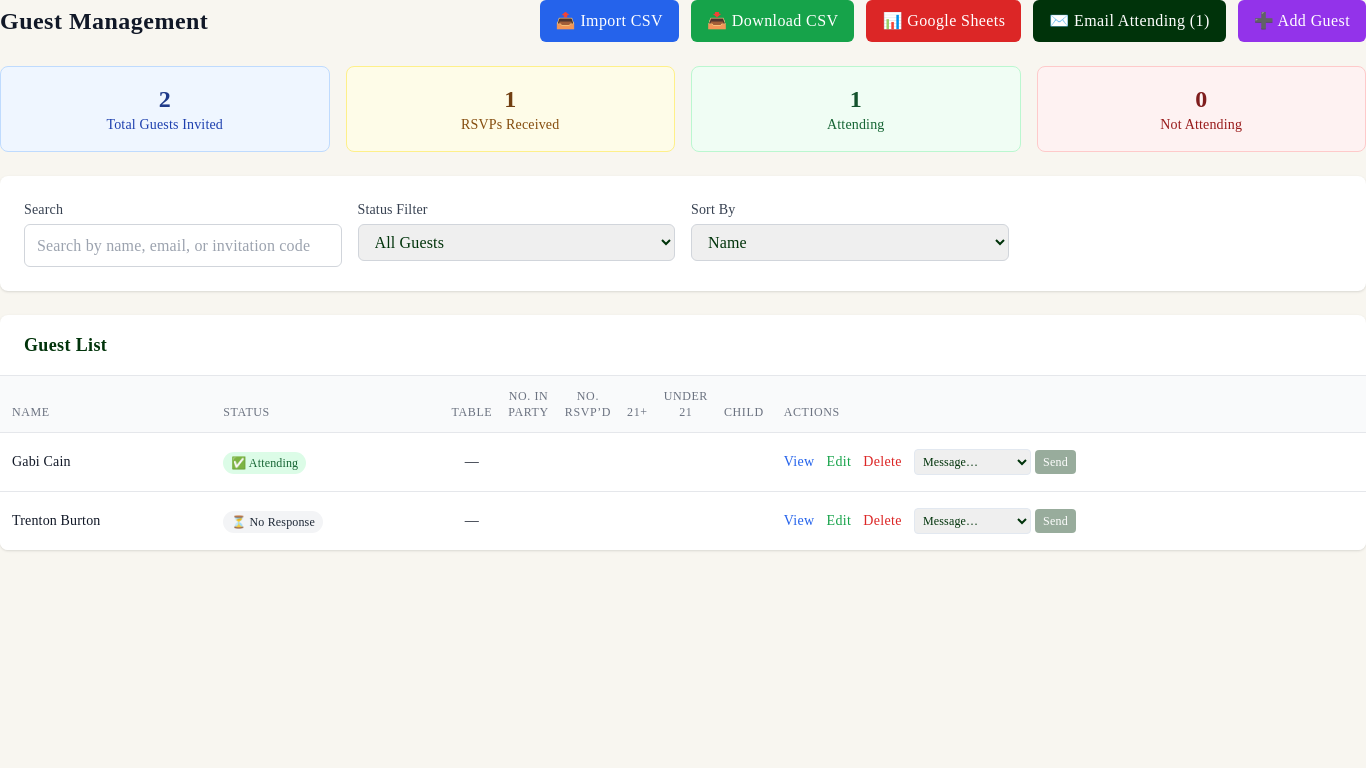
Scenario: the popup › downloads nothing when she cancels
Expected: the text "Gabi Cain" is shown, [12,454,71,469]
Click the button "📥 Download CSV" at (773, 21), box [691,0,854,42]
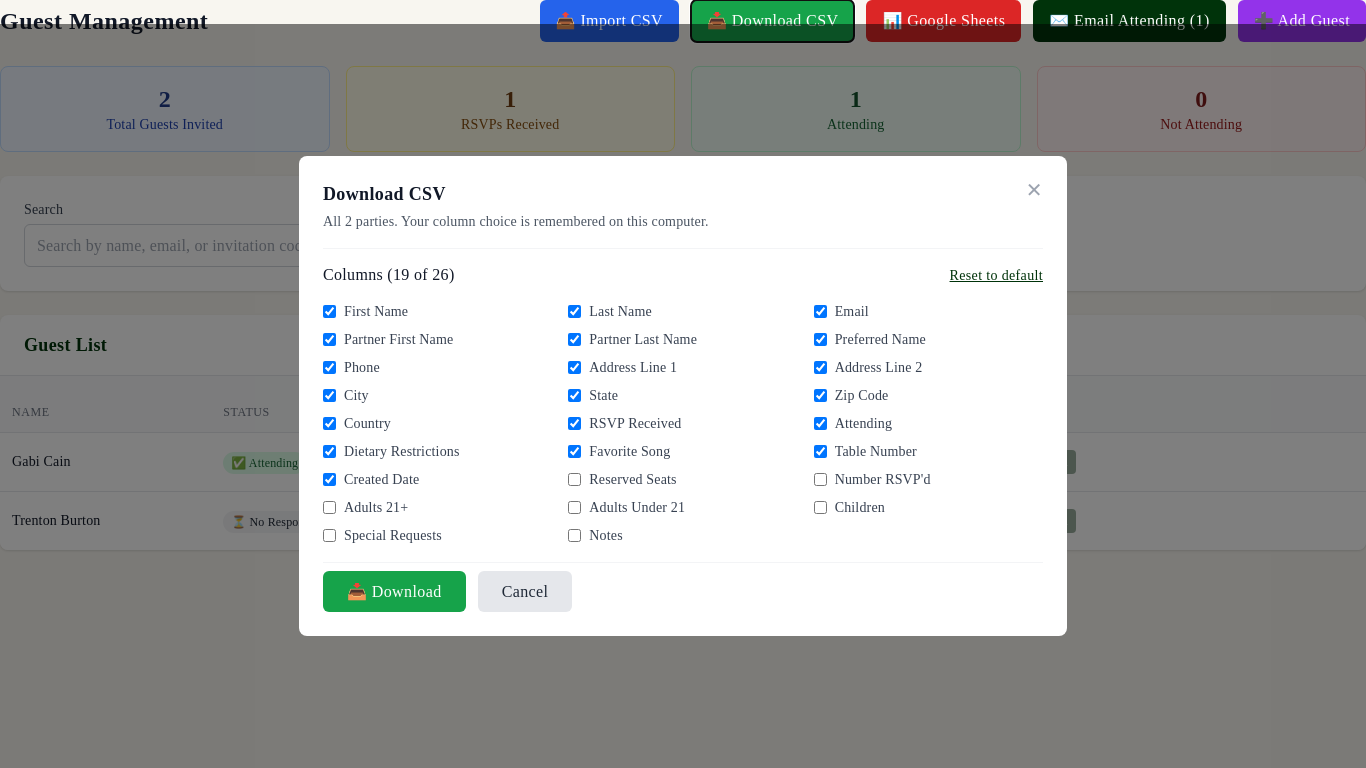
Click the button "Cancel" at (525, 592), box [478,571,572,612]
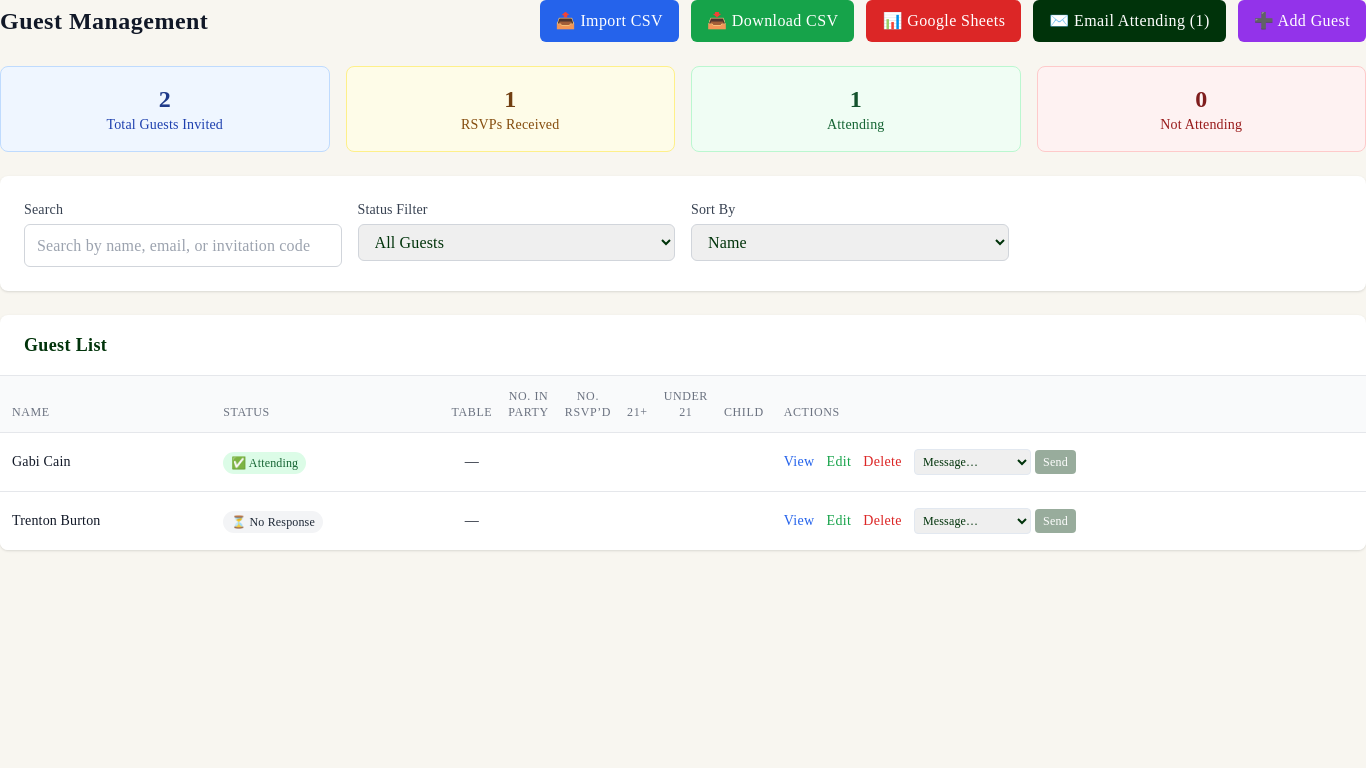
Now the dialog is gone
